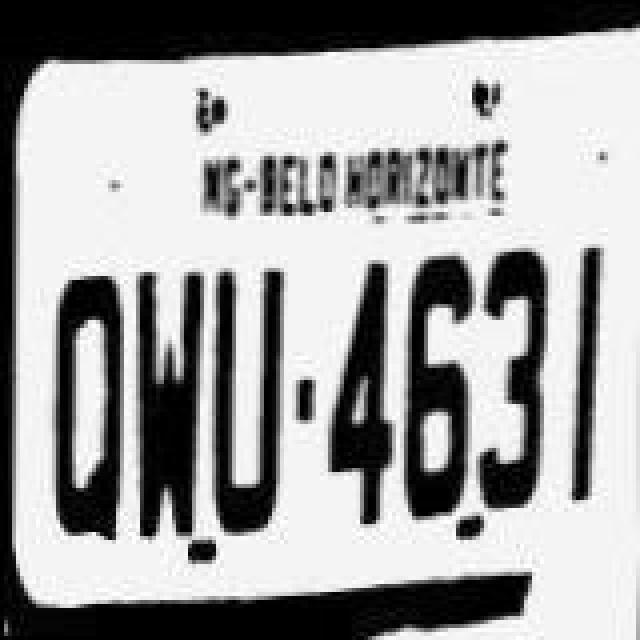1: (558, 236, 614, 508)
3: (472, 246, 552, 514)
4: (322, 254, 398, 530)
6: (398, 252, 482, 536)
Q: (44, 208, 128, 480)
U: (208, 260, 288, 544)
W: (130, 262, 206, 550)
